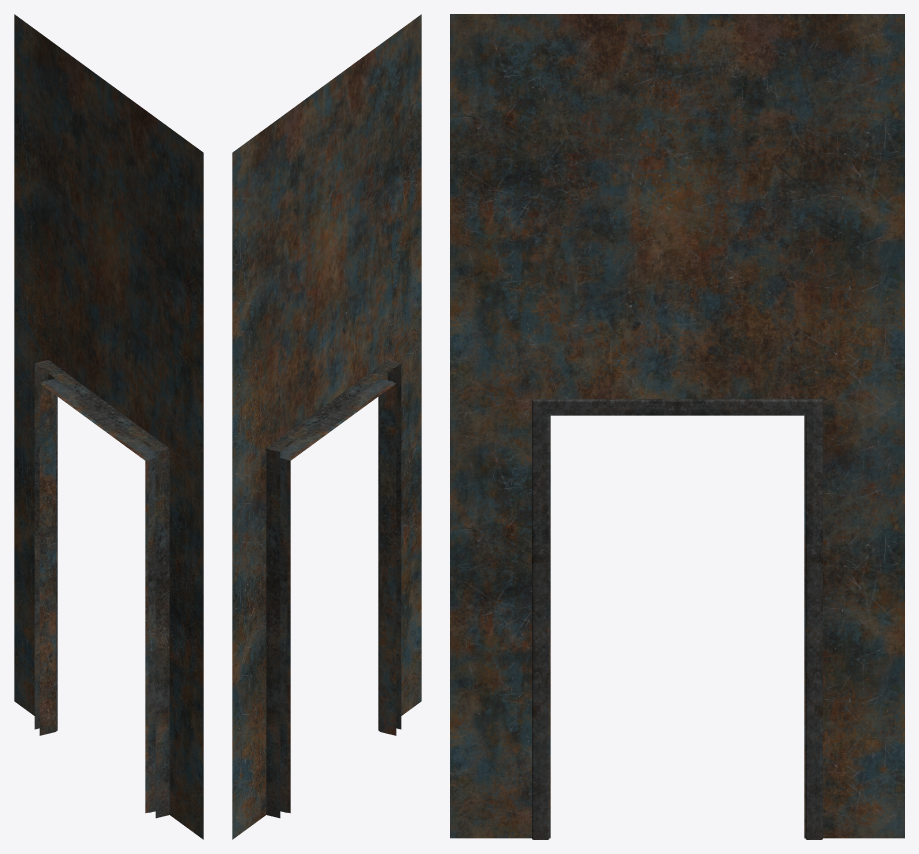
Rendered from Basement_Corridor_C_Flat_Wall_4x2m_Door.glb.
3 views of the same model, side by side, from view 1: azimuth 30°, elevation 25°; view 2: azimuth 150°, elevation 25°; view 3: azimuth 270°, elevation 25° (orthographic). The views are drawn at different scales.
Visible parts, largest first — view 1: Basement_Corridor_C_Flat_Wall_4x2m_Door; view 2: Basement_Corridor_C_Flat_Wall_4x2m_Door; view 3: Basement_Corridor_C_Flat_Wall_4x2m_Door.
Boxes of the visible parts, box(x1,y1,x2,y2) form: Basement_Corridor_C_Flat_Wall_4x2m_Door: box(14, 14, 203, 839); Basement_Corridor_C_Flat_Wall_4x2m_Door: box(232, 14, 421, 839); Basement_Corridor_C_Flat_Wall_4x2m_Door: box(450, 14, 904, 839).
Size of the model in its own units: 0.1159 by 4 by 2.
Materials: 2 (2 with a texture image).
